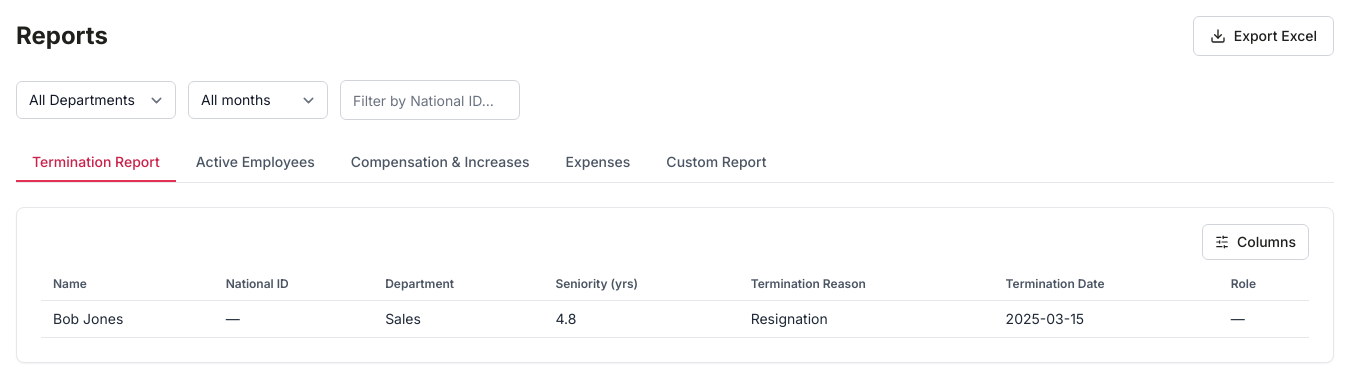
Test: ReportsPage › C-4: clicking Expenses tab shows expense data
The width and height of the screenshot is (1351, 380).
Click the tab "Expenses" at (598, 163), box [550,144,646,182]
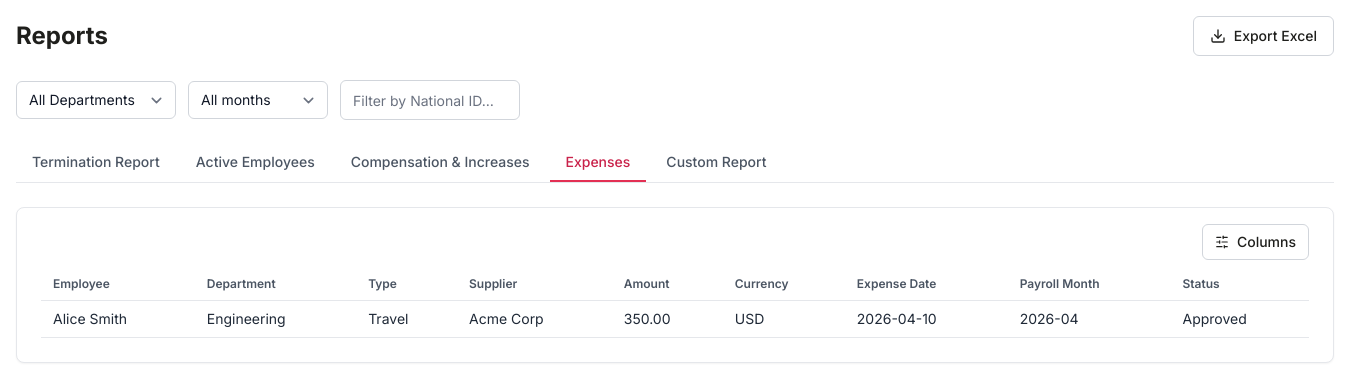
Result: the text "Alice Smith" is shown at [41,300,195,338]
Result: the text "Travel" is shown at [356,300,457,338]
Result: the text "350.00" is shown at [612,300,723,338]
